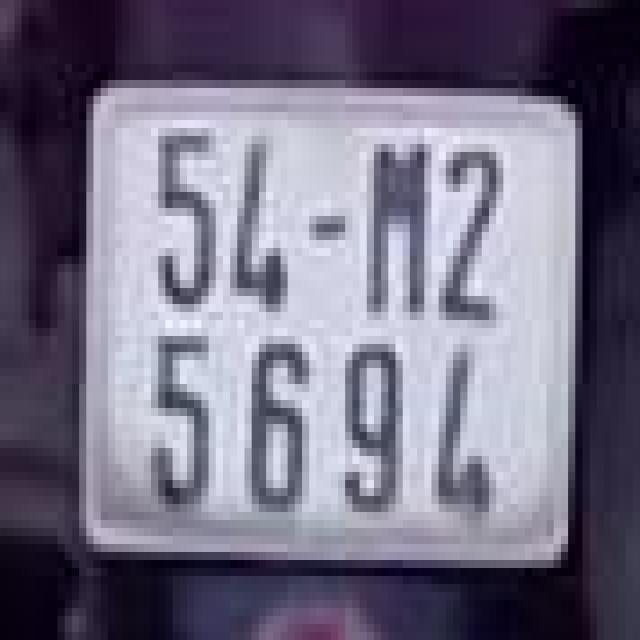2: (438, 132, 518, 332)
4: (428, 336, 500, 528), (230, 116, 295, 324)
5: (144, 108, 223, 316), (140, 320, 212, 520)
6: (241, 332, 313, 516)
9: (327, 328, 414, 520)
M: (363, 124, 442, 332)
